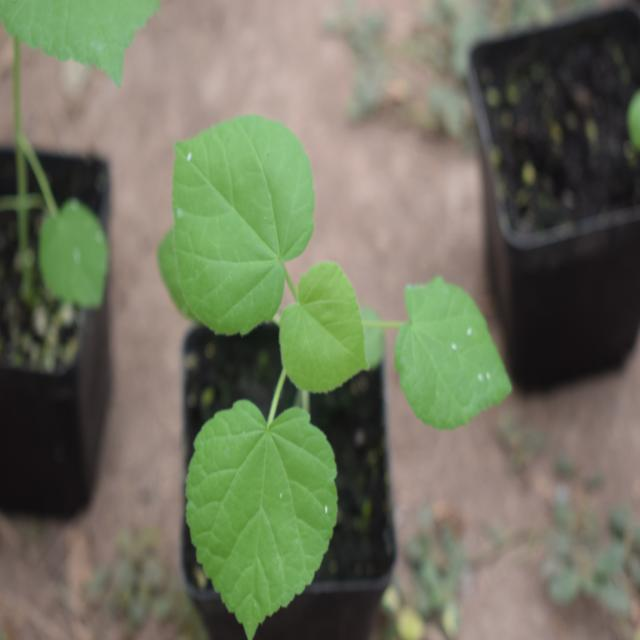abutilon theophrasti: (146, 110, 503, 605)
